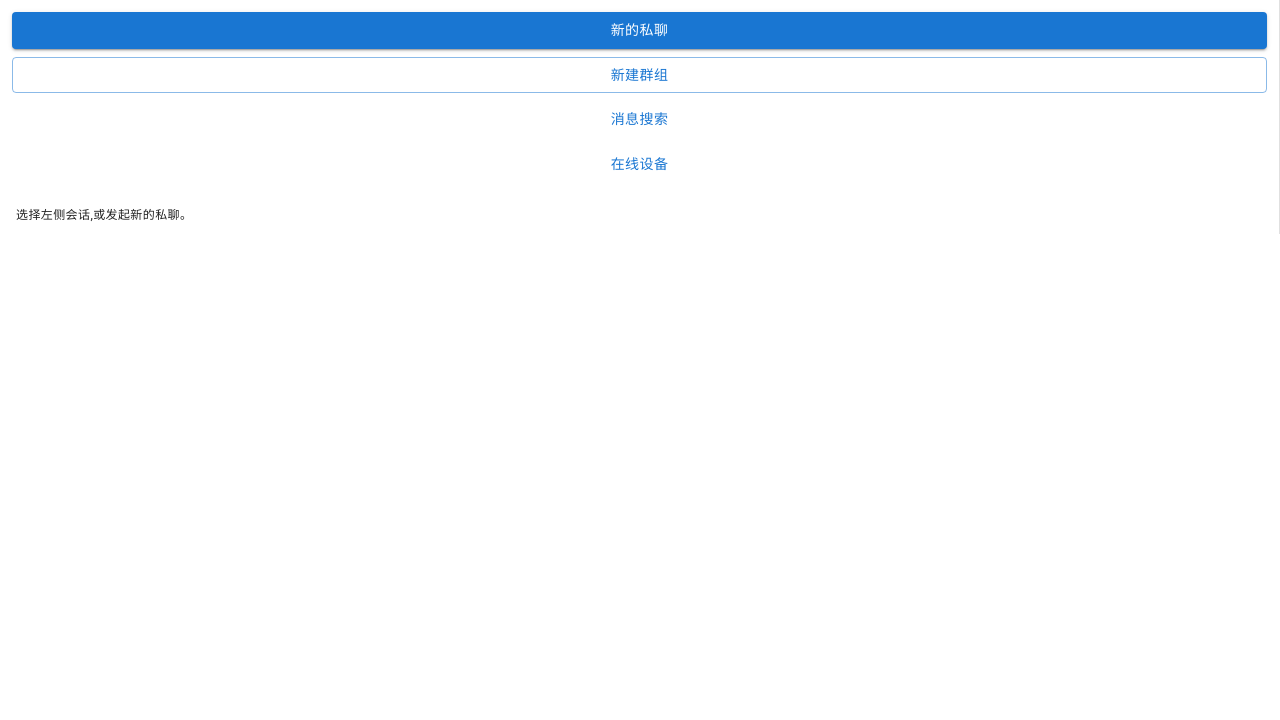
Test: ConversationList › refuses a self-chat
Click the button "新的私聊" at (640, 30), box [12,12,1267,48]
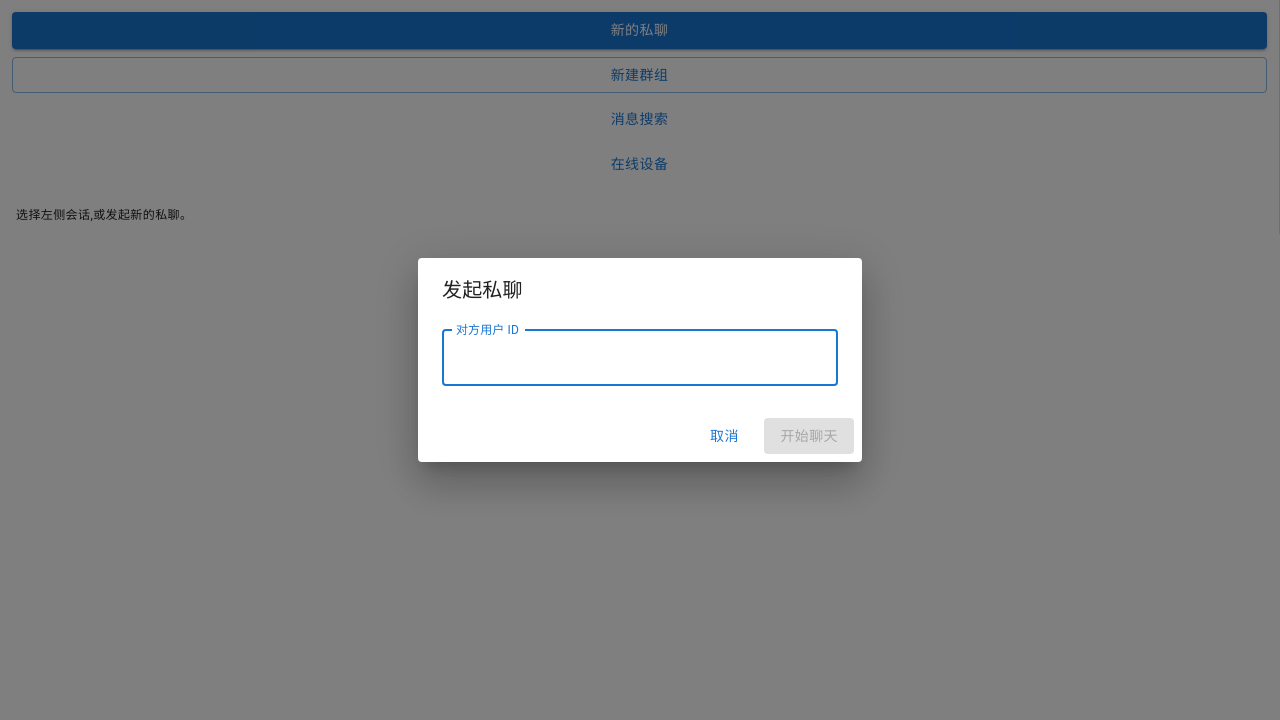
Type "user_a" into the field labelled "对方用户 ID" at (640, 358), box [442,330,838,386]
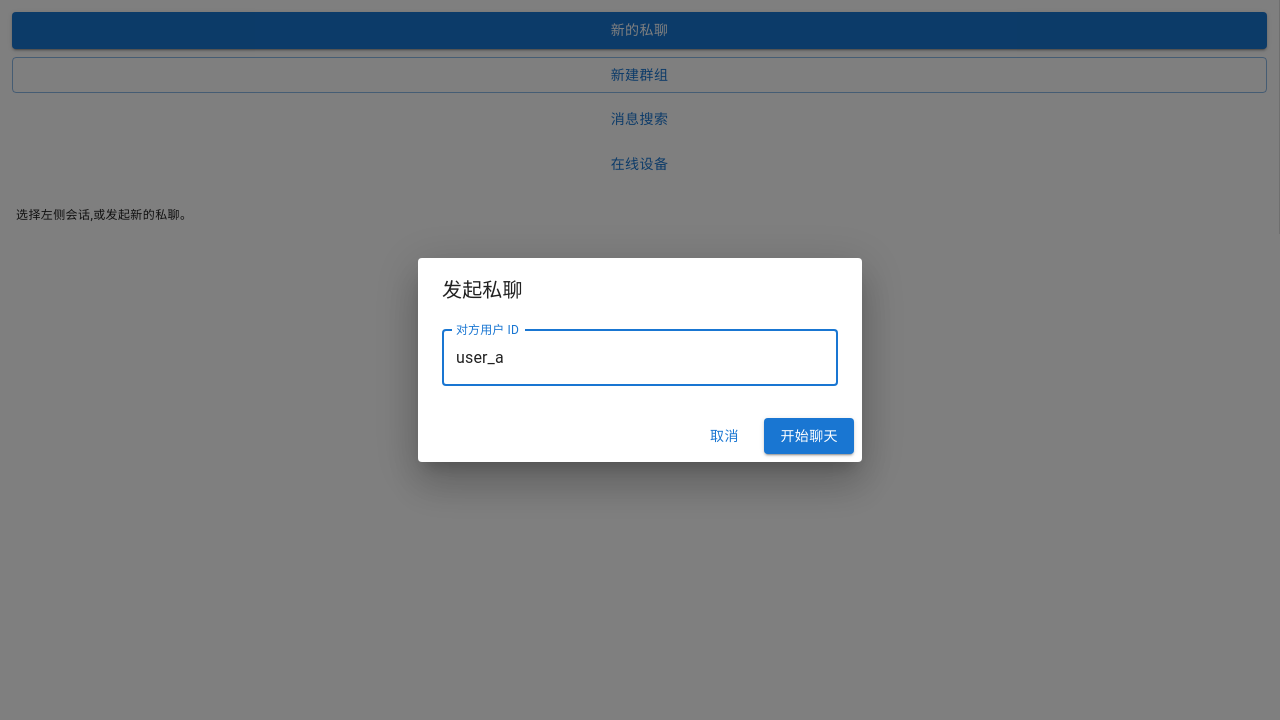
Click the button "开始聊天" at (809, 436), box [764,418,854,454]
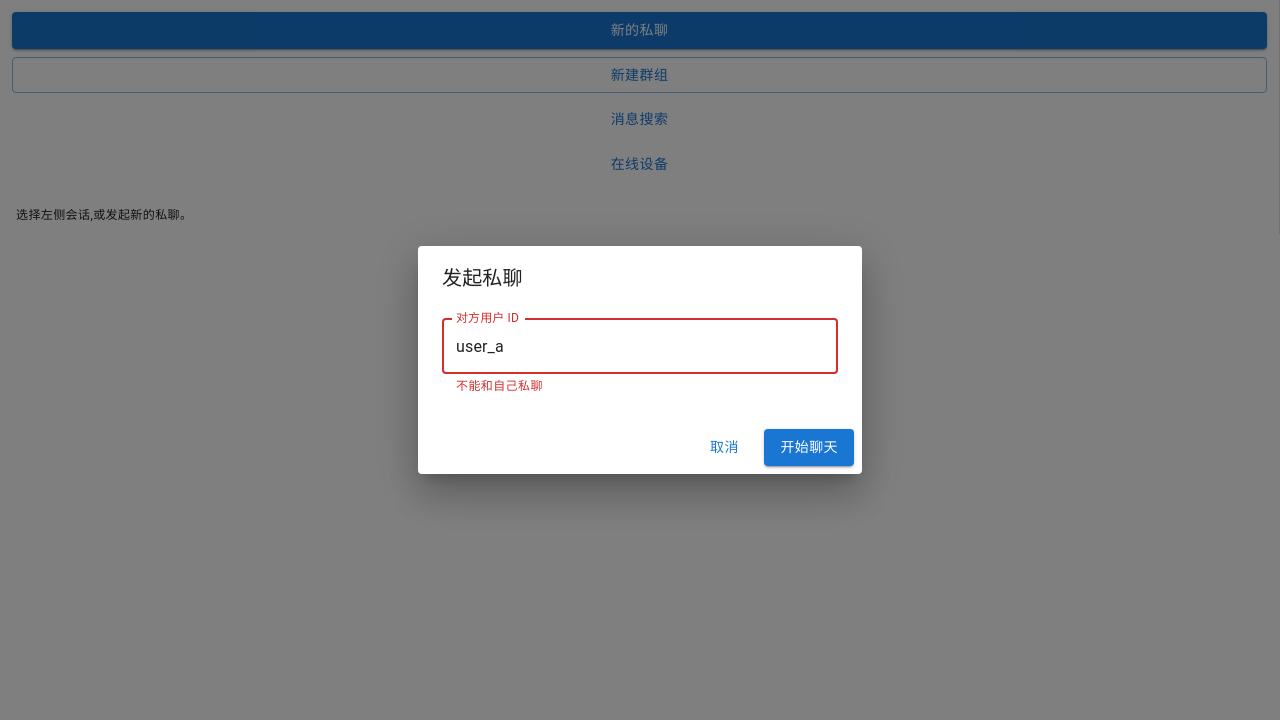
Expected: the text "不能和自己私聊" is shown, [456,379,543,393]
